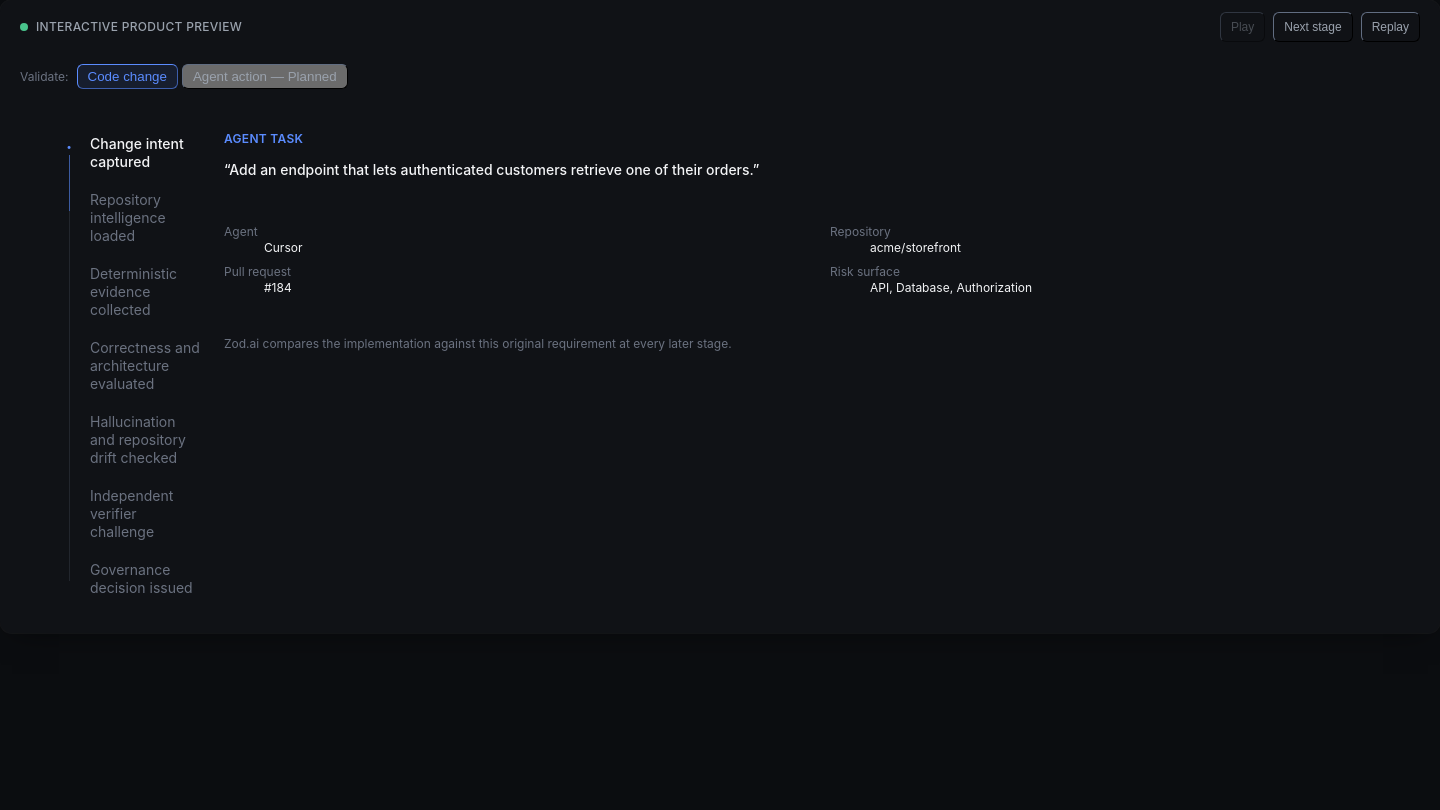
Test case: ValidationConsole › with reduced motion preferred › shows deterministic evidence including the failed schema-reference check
Click the button "Next stage" at (1313,27), box [1273,12,1353,42]
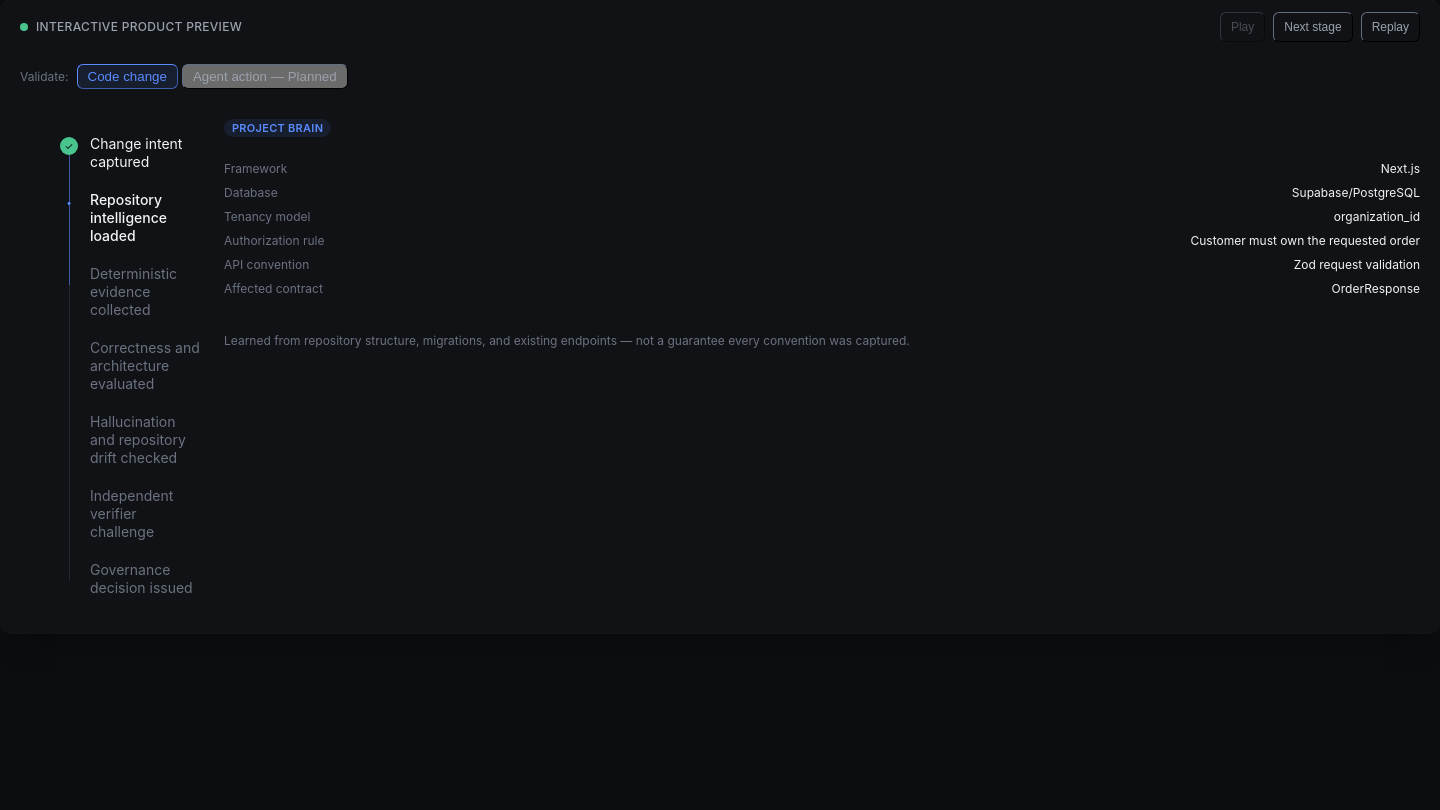
Click the button "Next stage" at (1313,27), box [1273,12,1353,42]
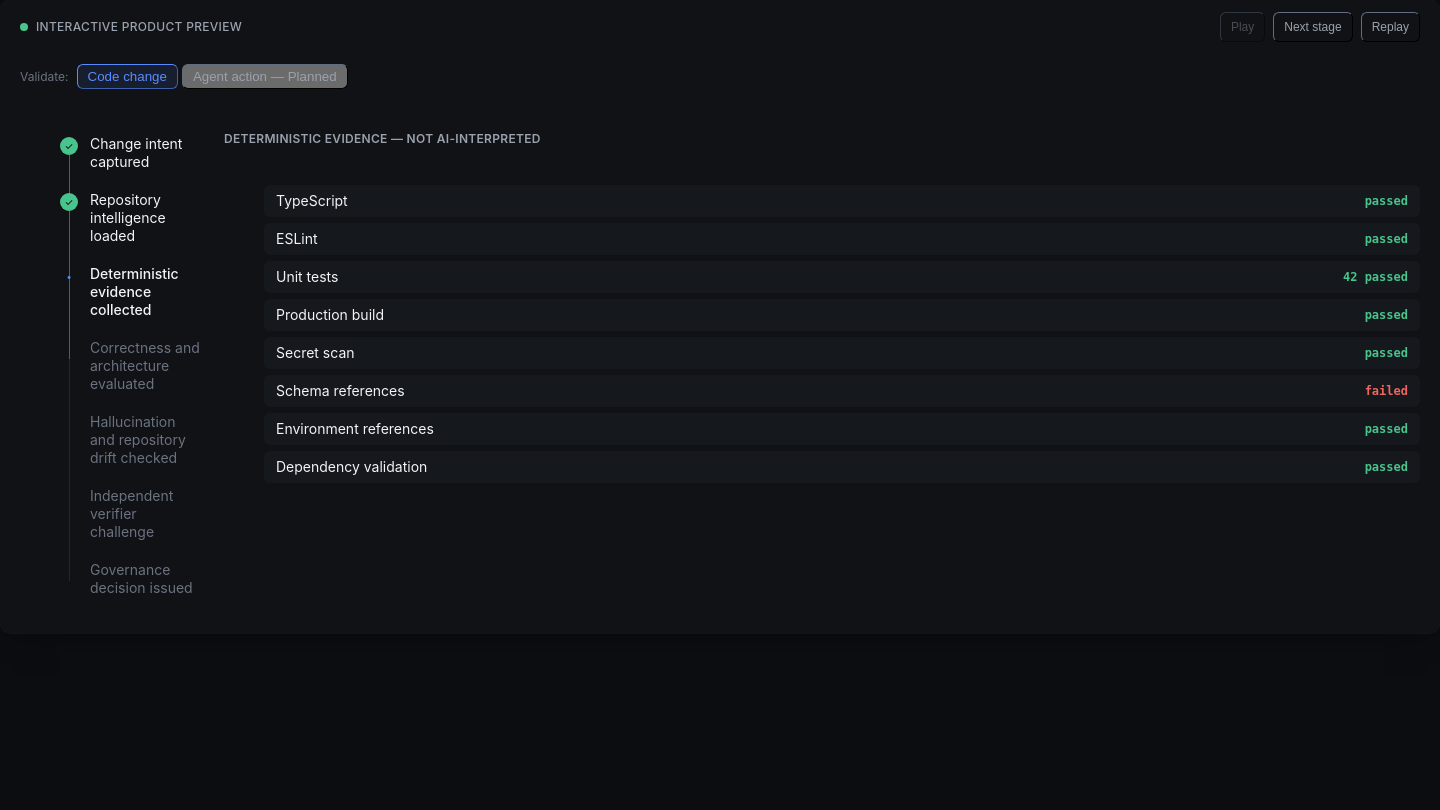
Result: the text "Unit tests" is shown at [276,267,338,287]
Result: the text "42 passed" is shown at [1343,269,1408,285]
Result: the text "Schema references" is shown at [276,381,405,401]
